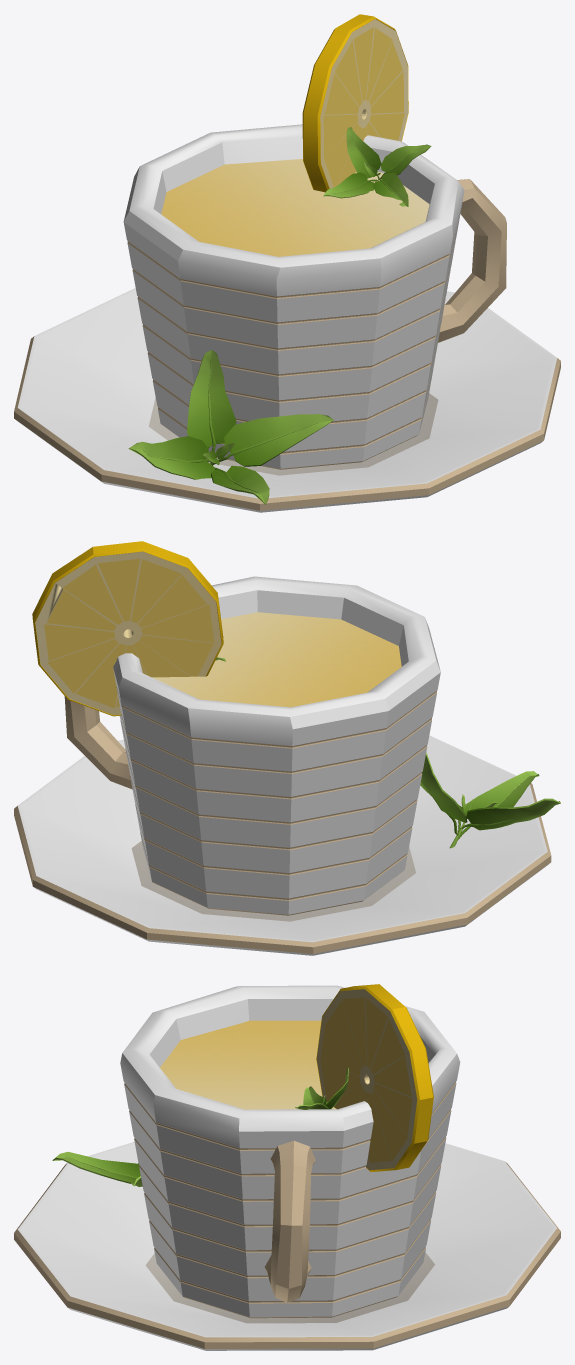
Rendered from lemon_tea.glb.
3 views of the same model, one above another, from view 1: azimuth 30°, elevation 25°; view 2: azimuth 150°, elevation 25°; view 3: azimuth 270°, elevation 25° (orthographic). The views are drawn at different scales.
Parts seen in each view (by area): view 1: CupWithTea; view 2: CupWithTea; view 3: CupWithTea.
Part boxes in pixels (x1,y1,x2,y2): CupWithTea: (14, 14, 560, 512); CupWithTea: (14, 541, 560, 955); CupWithTea: (14, 984, 560, 1350).
Bounding box in the file's own units: 4.6 × 3.41 × 4.82.
1 material, 1 textured.
